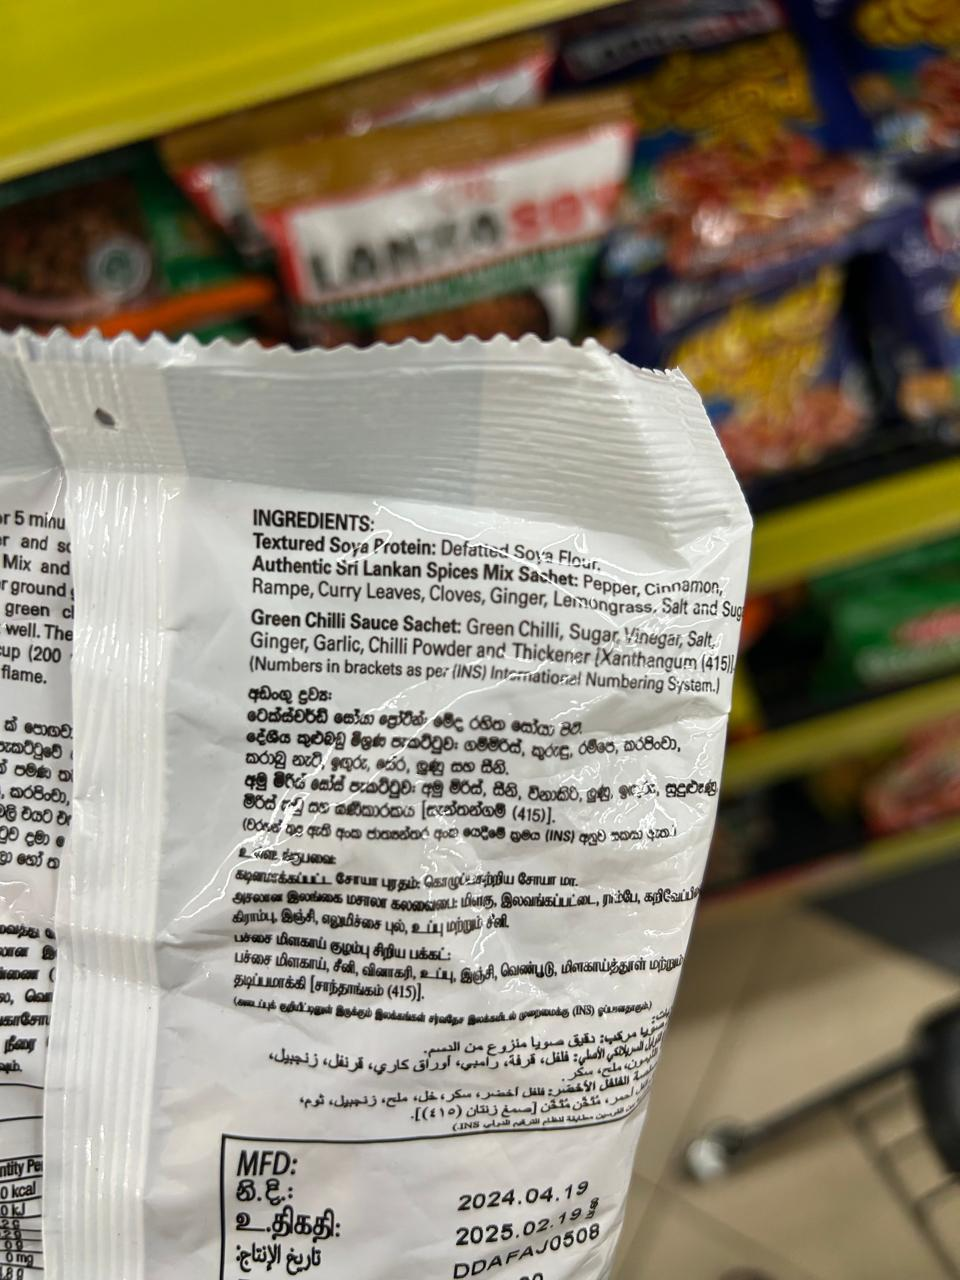ingredients: (231, 451, 784, 727)
